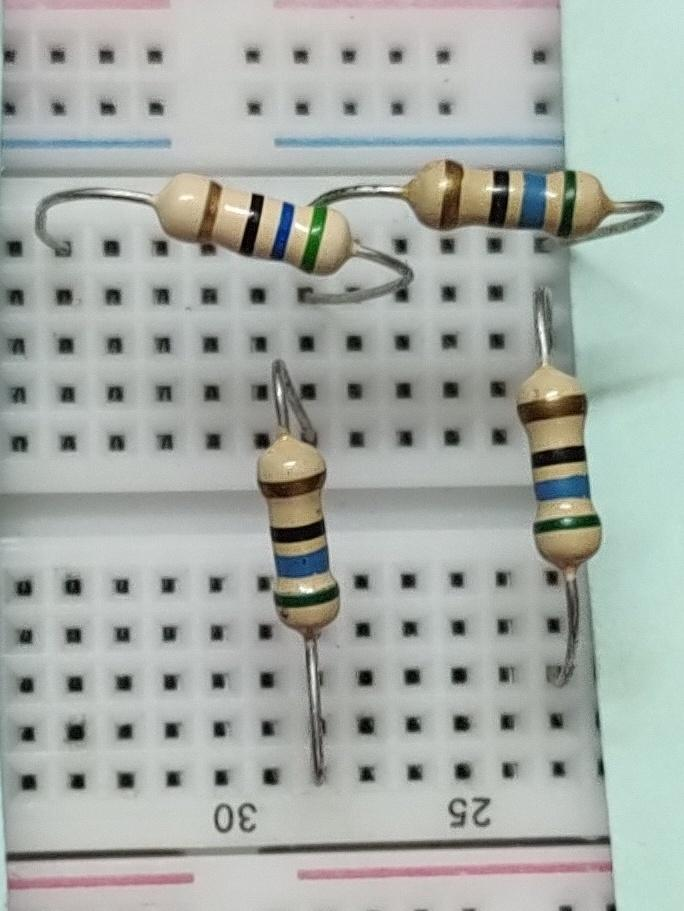resistor: (232, 412, 375, 662), (500, 340, 632, 605), (150, 160, 370, 308), (405, 145, 635, 260)
